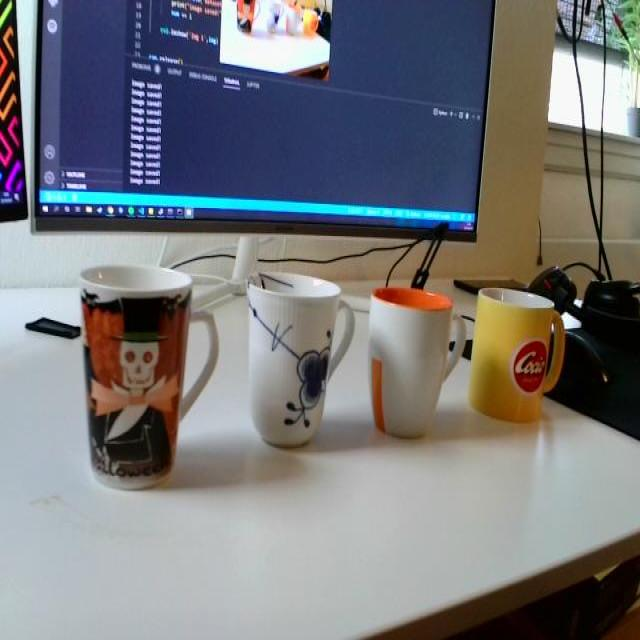cup: (74, 250, 218, 503), (238, 245, 352, 453), (365, 262, 465, 442), (466, 278, 572, 430)
